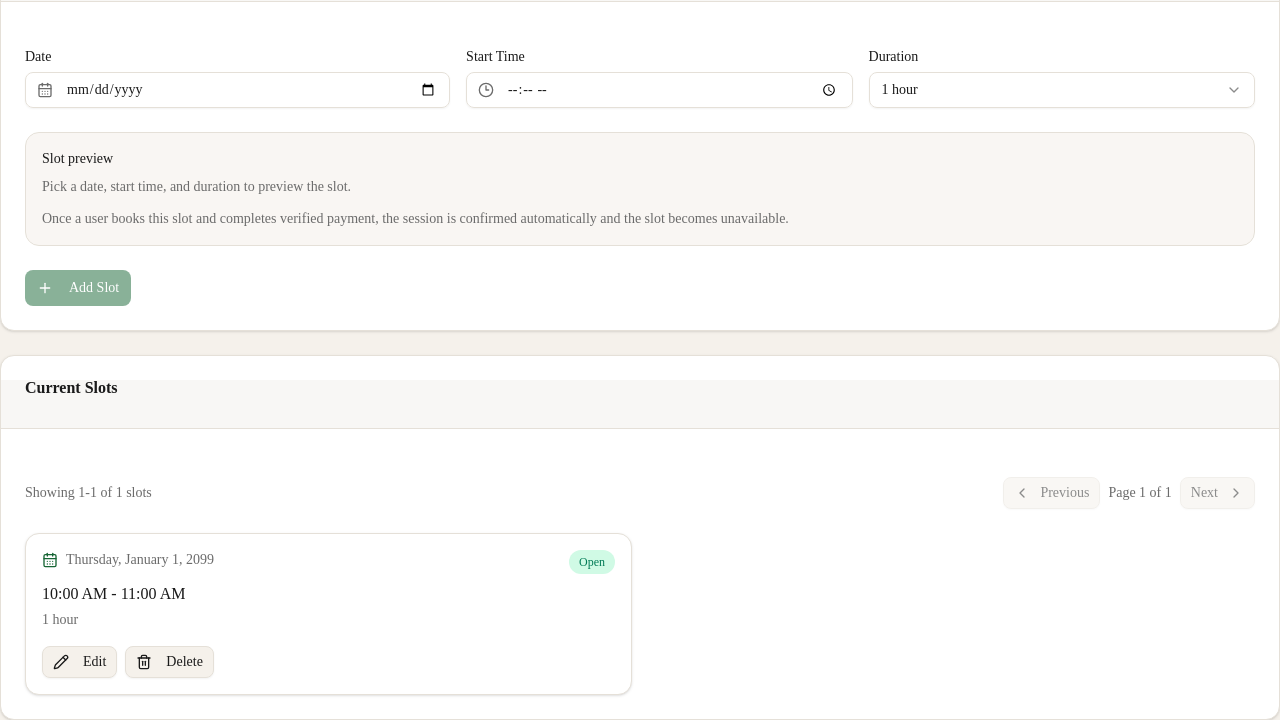
Scenario: Therapist availability management › loads existing slots and allows entering edit mode
(page scrolled)
Expected: the text "Showing 1-1 of 1 slots" is shown, [25, 483, 152, 503]
Step 1. Click the button "Edit" → coordinates (80, 662), box [42, 646, 117, 678]
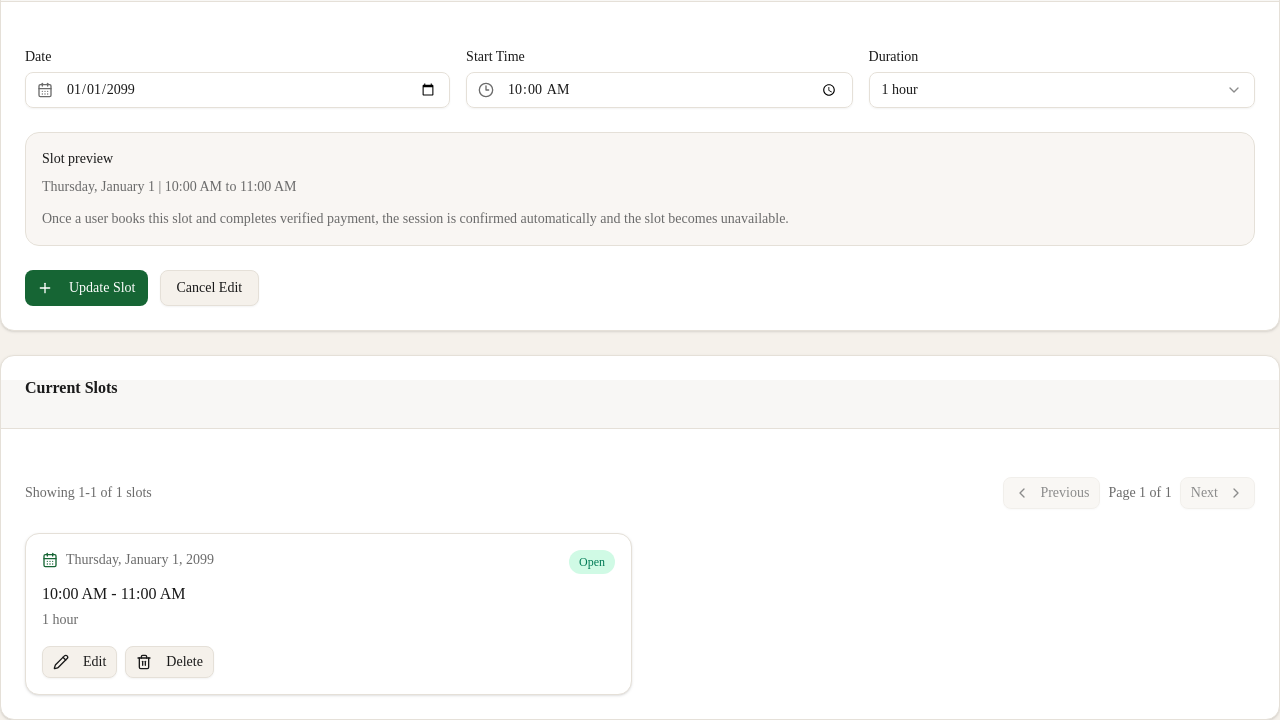
Expected: the button "Update Slot" is shown, [25, 270, 148, 306]
